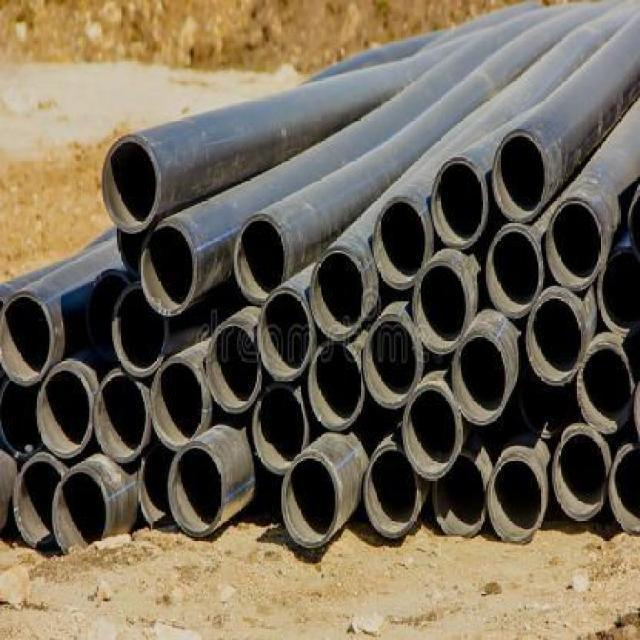pipe: (363, 314, 425, 410), (102, 134, 162, 233), (280, 451, 340, 550), (403, 382, 463, 480), (139, 220, 199, 317), (546, 195, 605, 291), (526, 291, 586, 385), (413, 259, 471, 356), (149, 357, 208, 452), (453, 331, 511, 427), (492, 129, 551, 223), (486, 225, 545, 319), (168, 442, 225, 539), (257, 286, 314, 382), (488, 454, 546, 547), (114, 281, 170, 377), (577, 343, 636, 434), (252, 383, 311, 474), (552, 429, 611, 520), (431, 156, 488, 250), (374, 196, 431, 290), (311, 246, 368, 340), (0, 289, 54, 388), (37, 366, 94, 459), (206, 320, 262, 414), (365, 445, 421, 539), (234, 212, 290, 305), (94, 372, 150, 465), (310, 340, 365, 433), (12, 452, 65, 548), (53, 466, 110, 554), (434, 454, 488, 537), (597, 249, 639, 337), (137, 446, 176, 528), (610, 443, 639, 534)
